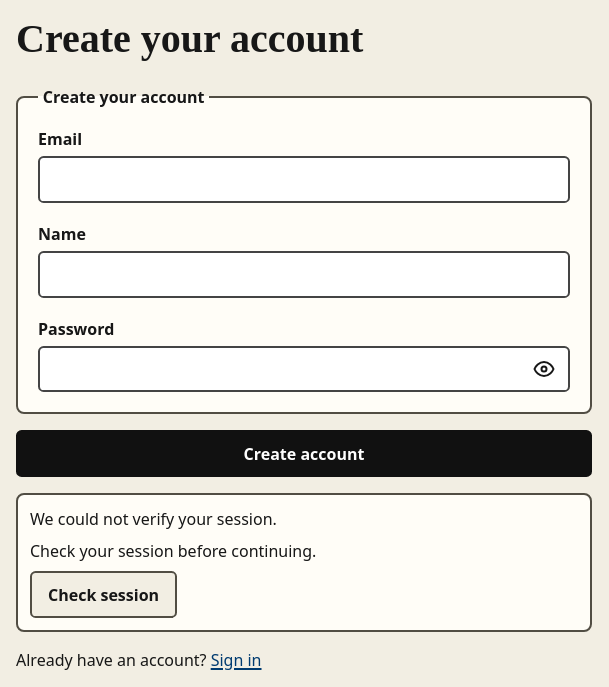
Test: signup-form: › keeps signup open and explains recovery when the new session cannot be verified
The width and height of the screenshot is (609, 687).
In the field labelled "Email": coordinates (304, 179) x1=38 y1=156 x2=570 y2=203, type "ada@example.test"
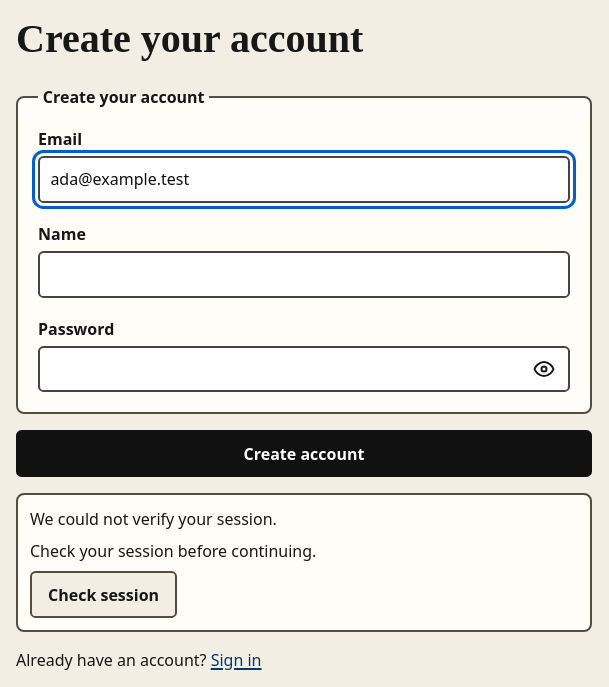
In the field labelled "Name": coordinates (304, 274) x1=38 y1=251 x2=570 y2=298, type "Ada Example"
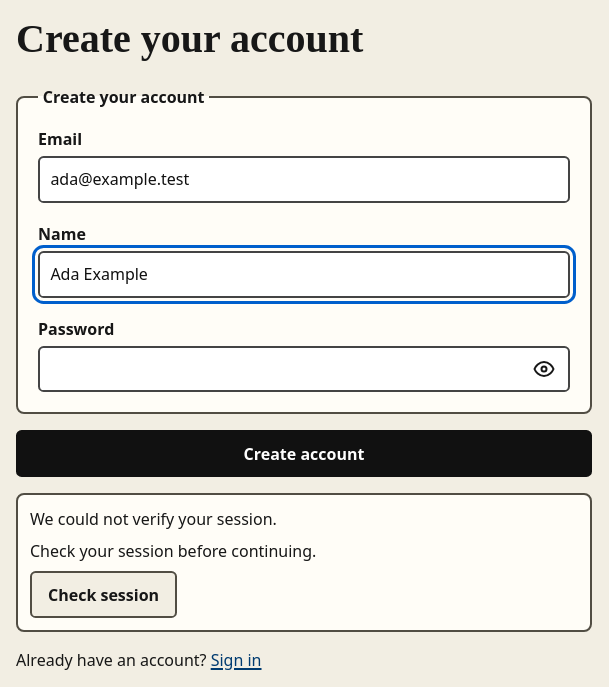
In the password field labelled "Password": coordinates (304, 369) x1=38 y1=346 x2=570 y2=392, type "Abcdef1!"
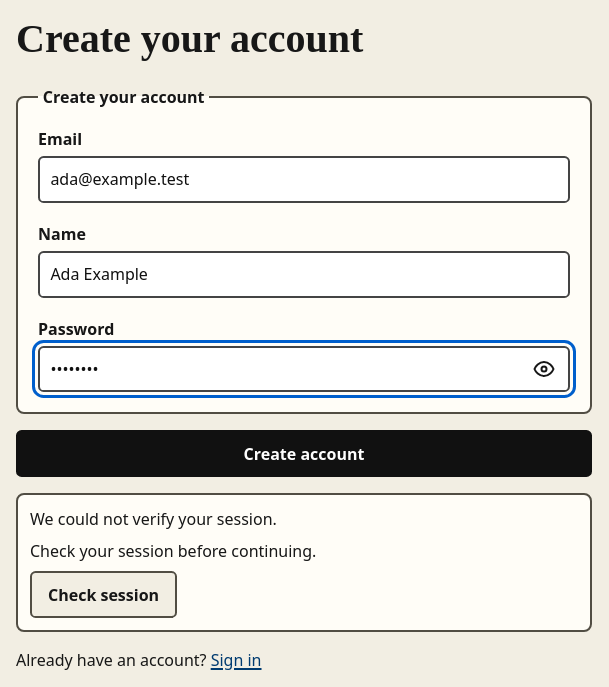
Click the button "Create account": coordinates (304, 454) x1=16 y1=430 x2=592 y2=477
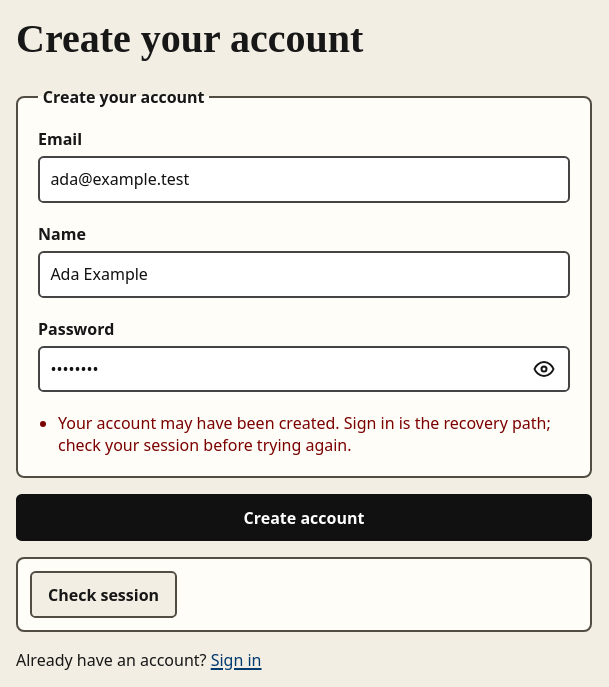
Check: the message shows "account may have been created", box x1=58 y1=412 x2=551 y2=456
Check: the message shows "Sign in is the recovery path", box x1=58 y1=412 x2=551 y2=456
Check: the number of messages is 1, box x1=38 y1=412 x2=570 y2=456
